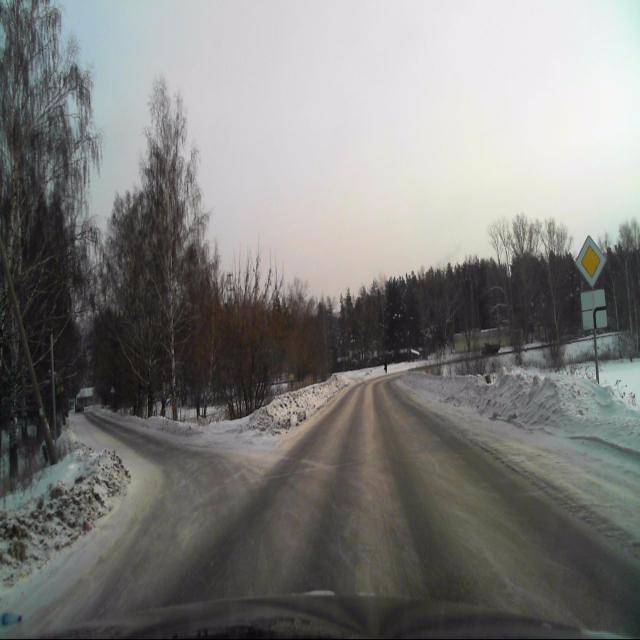road sign: (576, 234, 606, 289), (582, 289, 607, 331)
